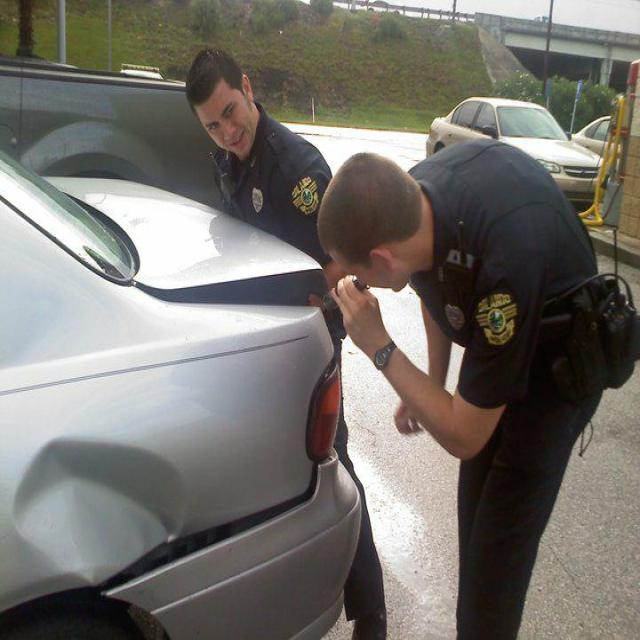dent: (4, 427, 189, 585)
misalignment: (99, 448, 337, 592)
